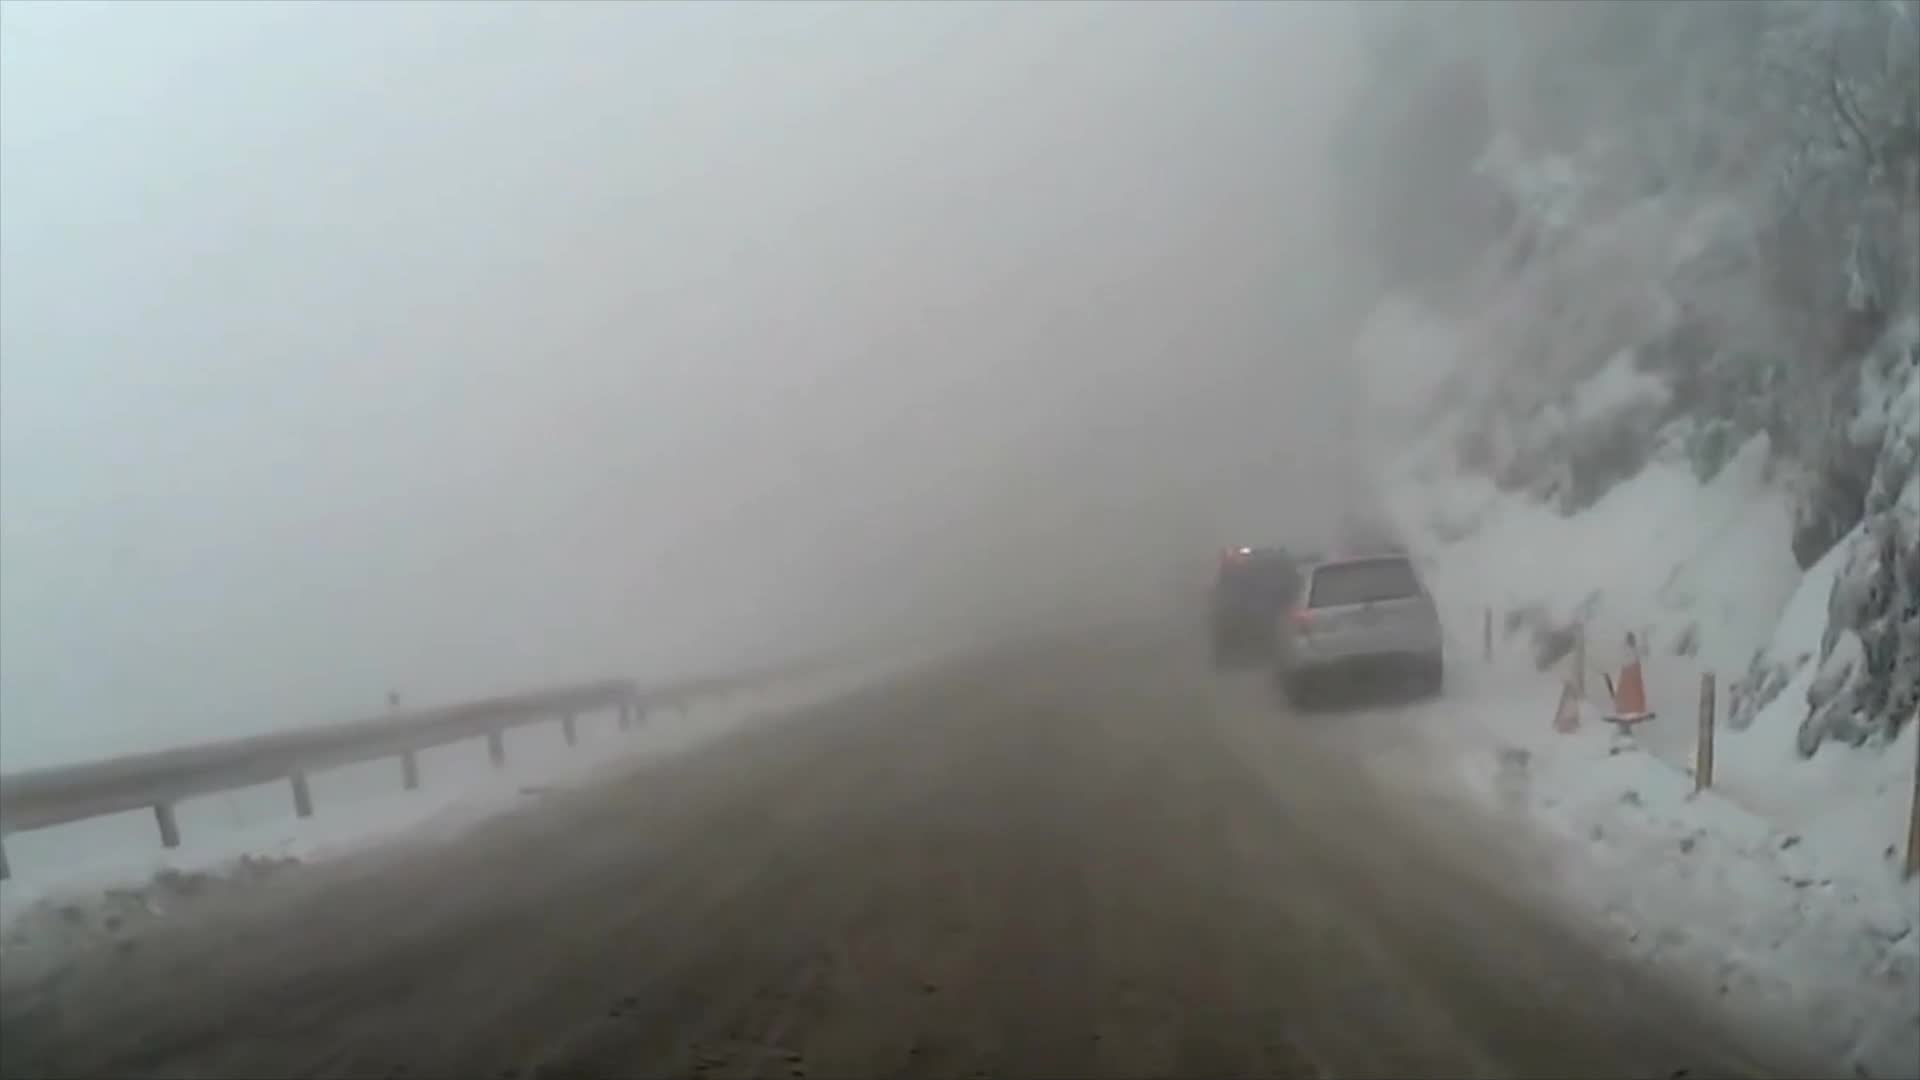vehicle: (1269, 541, 1443, 709), (1203, 542, 1327, 679)
